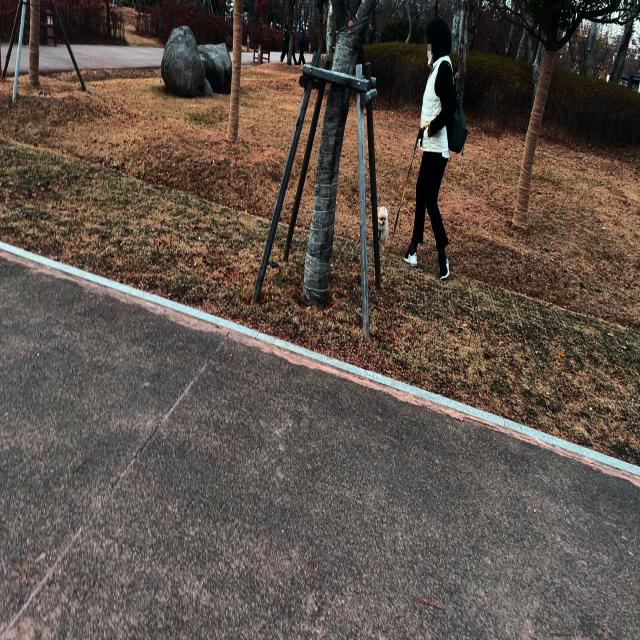Leashed_Dog: (378, 124, 435, 265)
